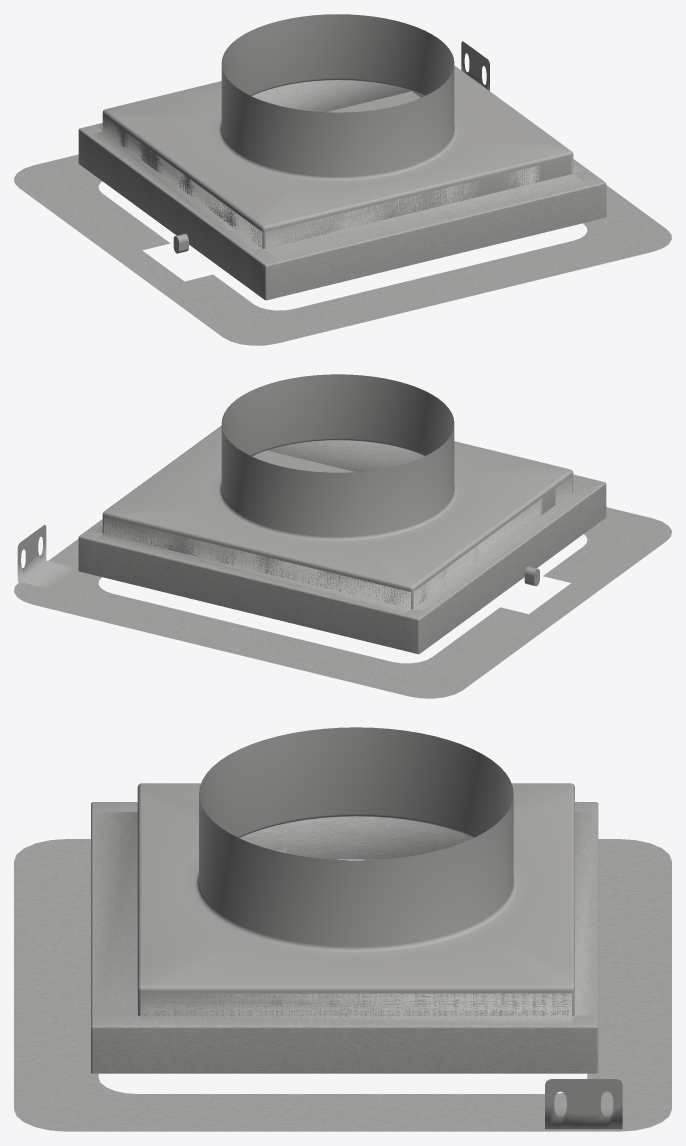
File: DamperEnd.gltf
3 views of the same model, one above another, from view 1: azimuth 30°, elevation 25°; view 2: azimuth 150°, elevation 25°; view 3: azimuth 270°, elevation 25° (orthographic). The views are drawn at different scales.
Visible parts, largest first — view 1: Plane.007, Plane.001, Plane.005, Plane.006; view 2: Plane.007, Plane.001, Plane.005, Plane.006, Plane; view 3: Plane.007, Plane.001, Plane.005, Plane.006.
Boxes of the visible parts, box(x1,y1,x2,y2) form: Plane.007: box(102, 14, 573, 248); Plane.001: box(78, 80, 606, 300); Plane.005: box(14, 91, 671, 345); Plane.006: box(461, 41, 489, 90); Plane.007: box(102, 374, 573, 608); Plane.001: box(78, 440, 606, 654); Plane.005: box(14, 507, 671, 698); Plane.006: box(17, 525, 76, 588); Plane: box(253, 450, 354, 472); Plane.007: box(137, 727, 574, 1016); Plane.001: box(91, 802, 598, 1073); Plane.005: box(14, 839, 671, 1131); Plane.006: box(545, 1079, 622, 1129).
Size of the model in its own units: 2.77 by 0.846 by 2.63.
2 materials, 1 textured.
